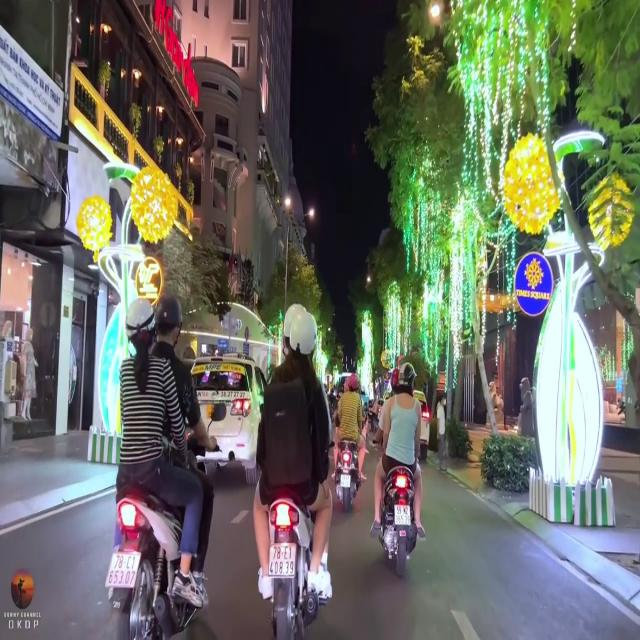bien_trang: (105, 549, 136, 591), (269, 540, 295, 578)
